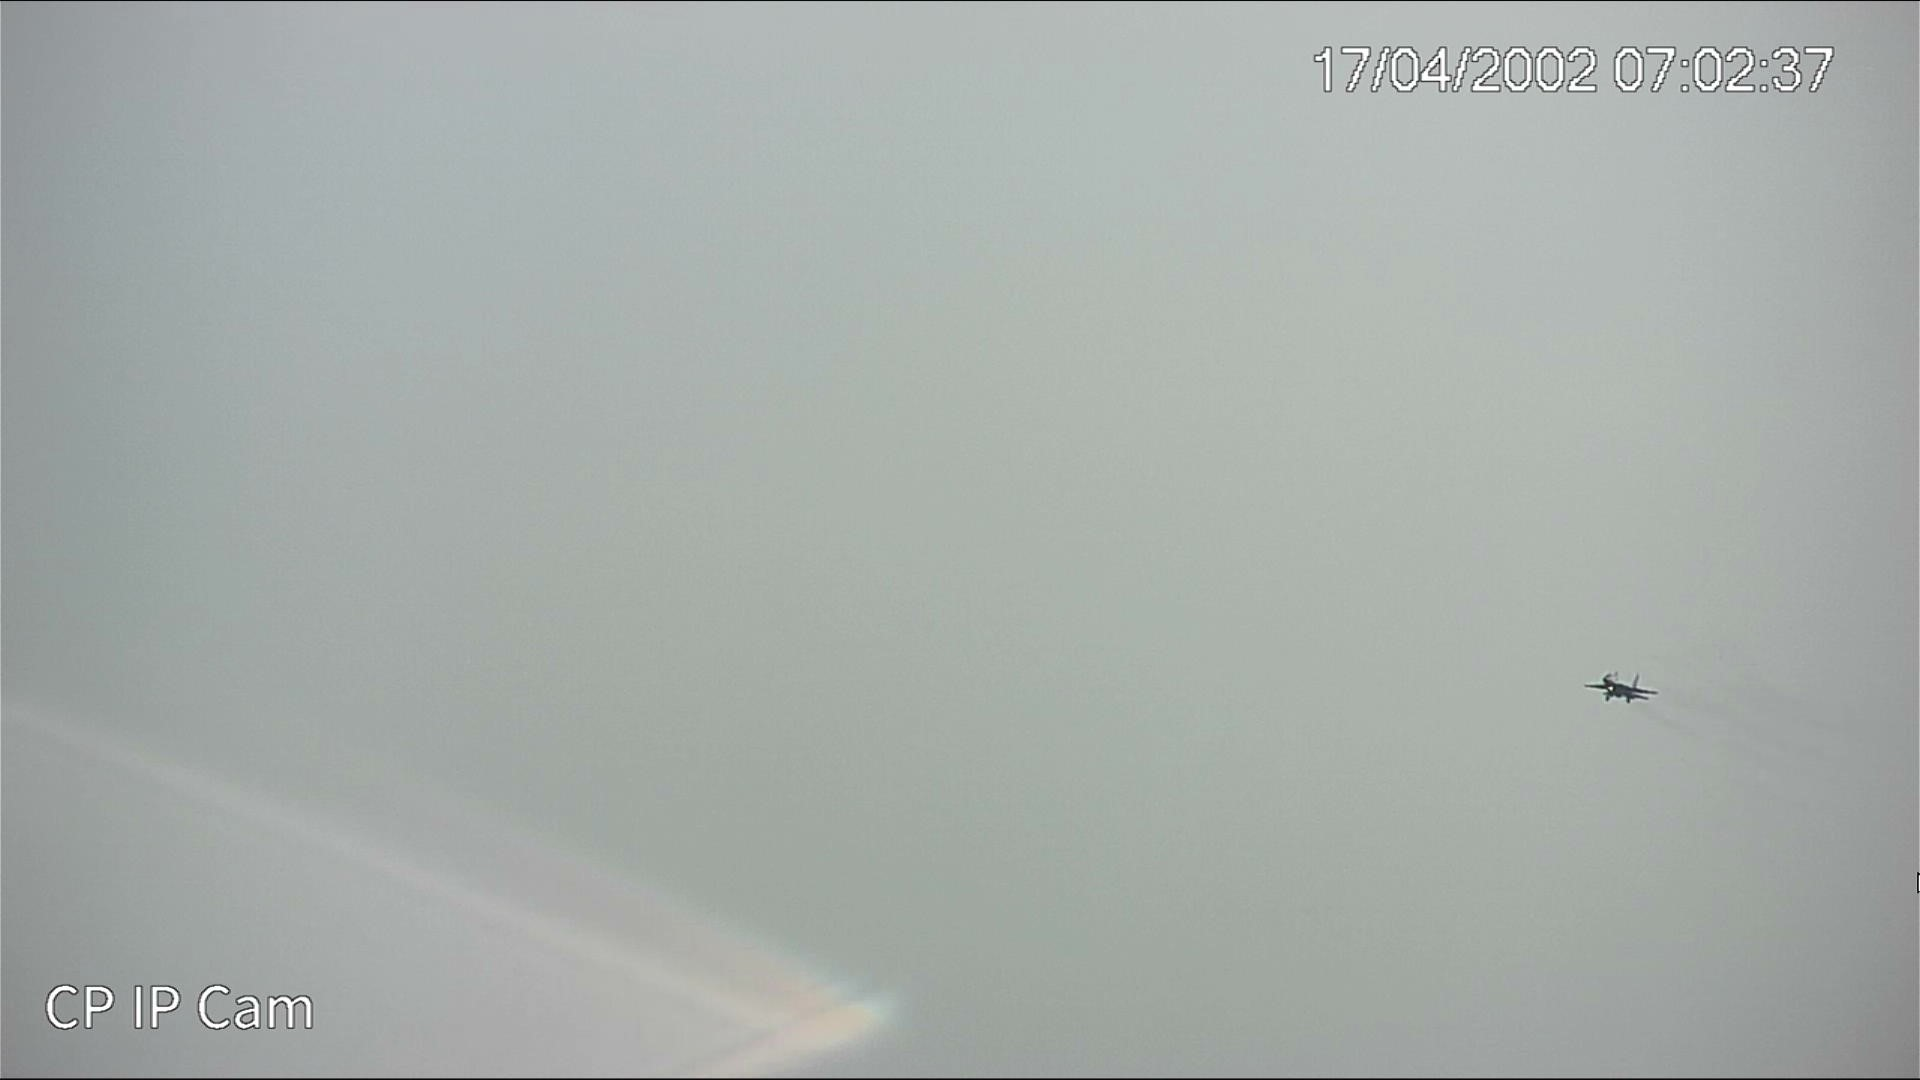SU_30: (1582, 670, 1658, 703)
